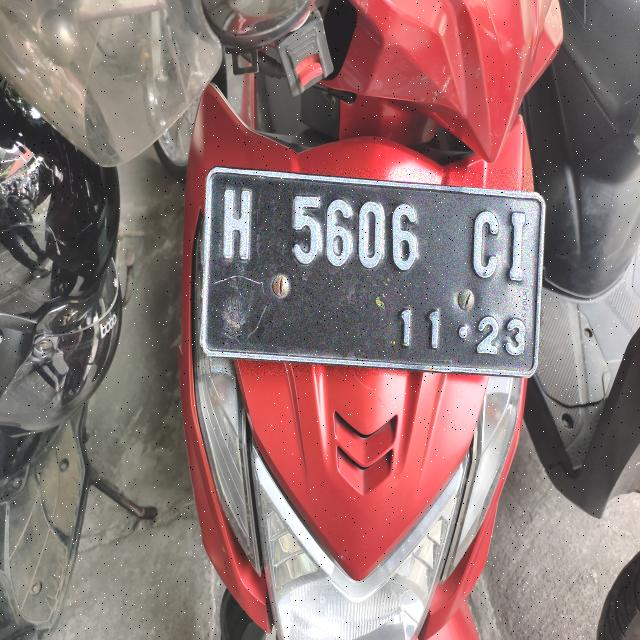plate: (201, 168, 543, 375)
